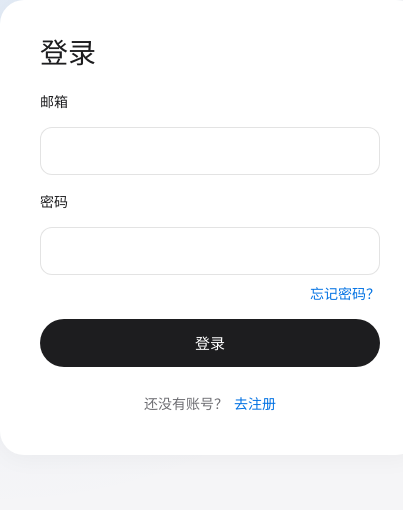
Test: AuthForm › submits register code form and shows code verification step
Click the button "去注册" at (255, 403), box left=234, top=391, right=276, bottom=415
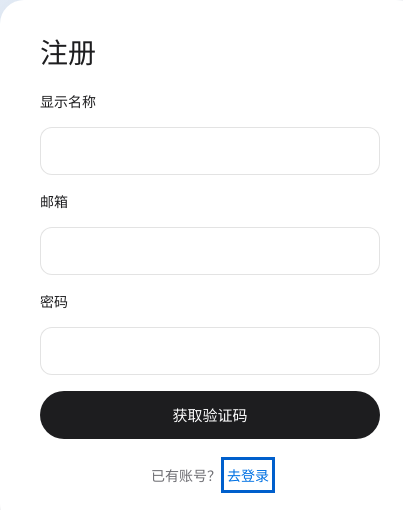
Type "New User" into the field labelled "显示名称" at (210, 151), box left=40, top=127, right=380, bottom=175
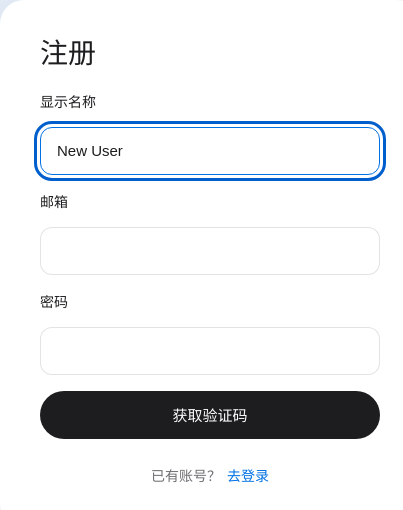
Type "new@example.com" into the field labelled "邮箱" at (210, 251), box left=40, top=227, right=380, bottom=275
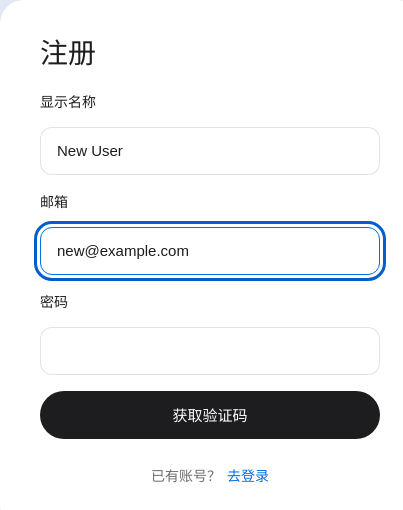
Type "password123" into the password field labelled "密码" at (210, 351), box left=40, top=327, right=380, bottom=375
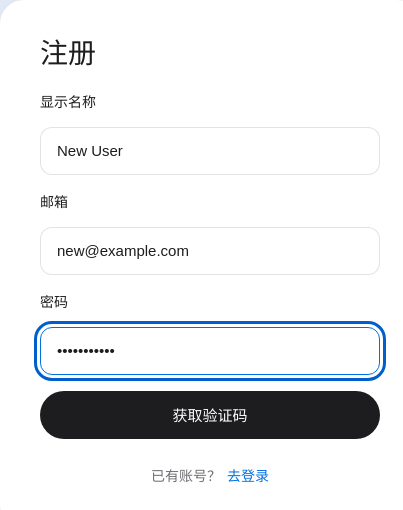
Click the button "获取验证码" at (210, 415), box left=40, top=391, right=380, bottom=439
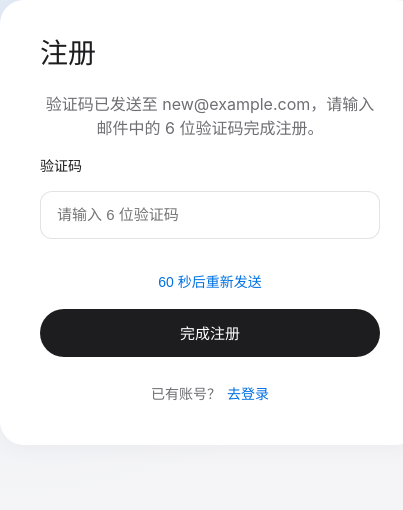
Expected: the field labelled "验证码" is shown, left=40, top=191, right=380, bottom=239
Expected: the text "验证码已发送至 new@example.com，请输入邮件中的 6 位验证码完成注册。" is shown, left=40, top=91, right=380, bottom=139
